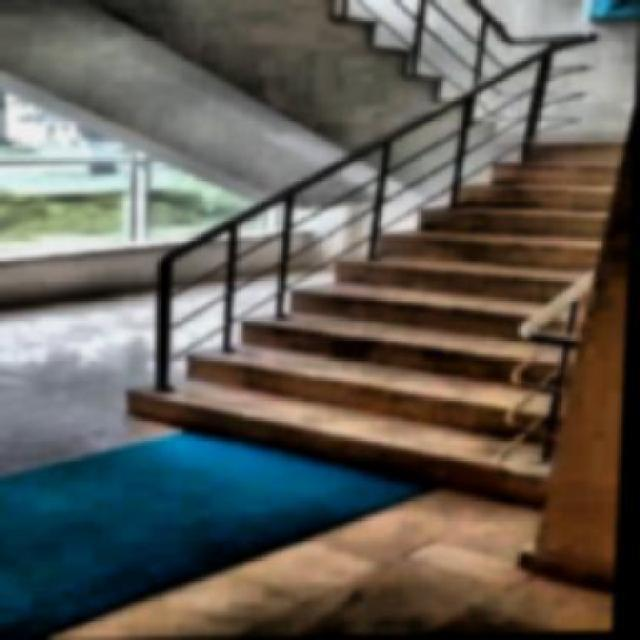stair: (75, 94, 634, 543)
